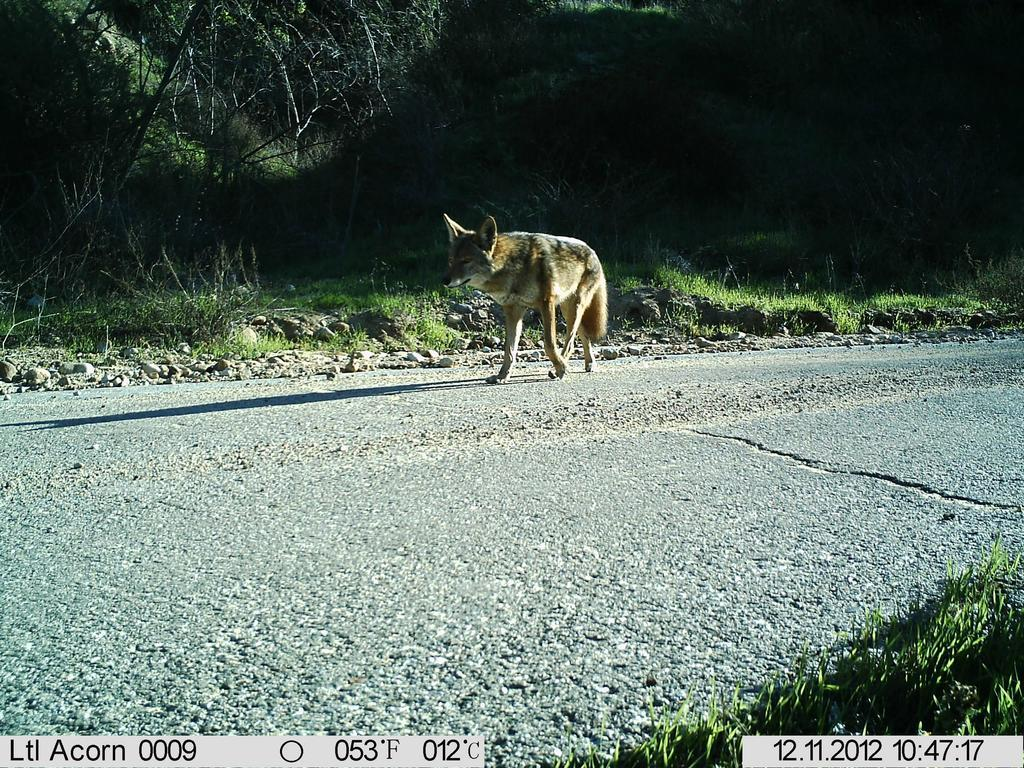coyote: (434, 199, 619, 391)
